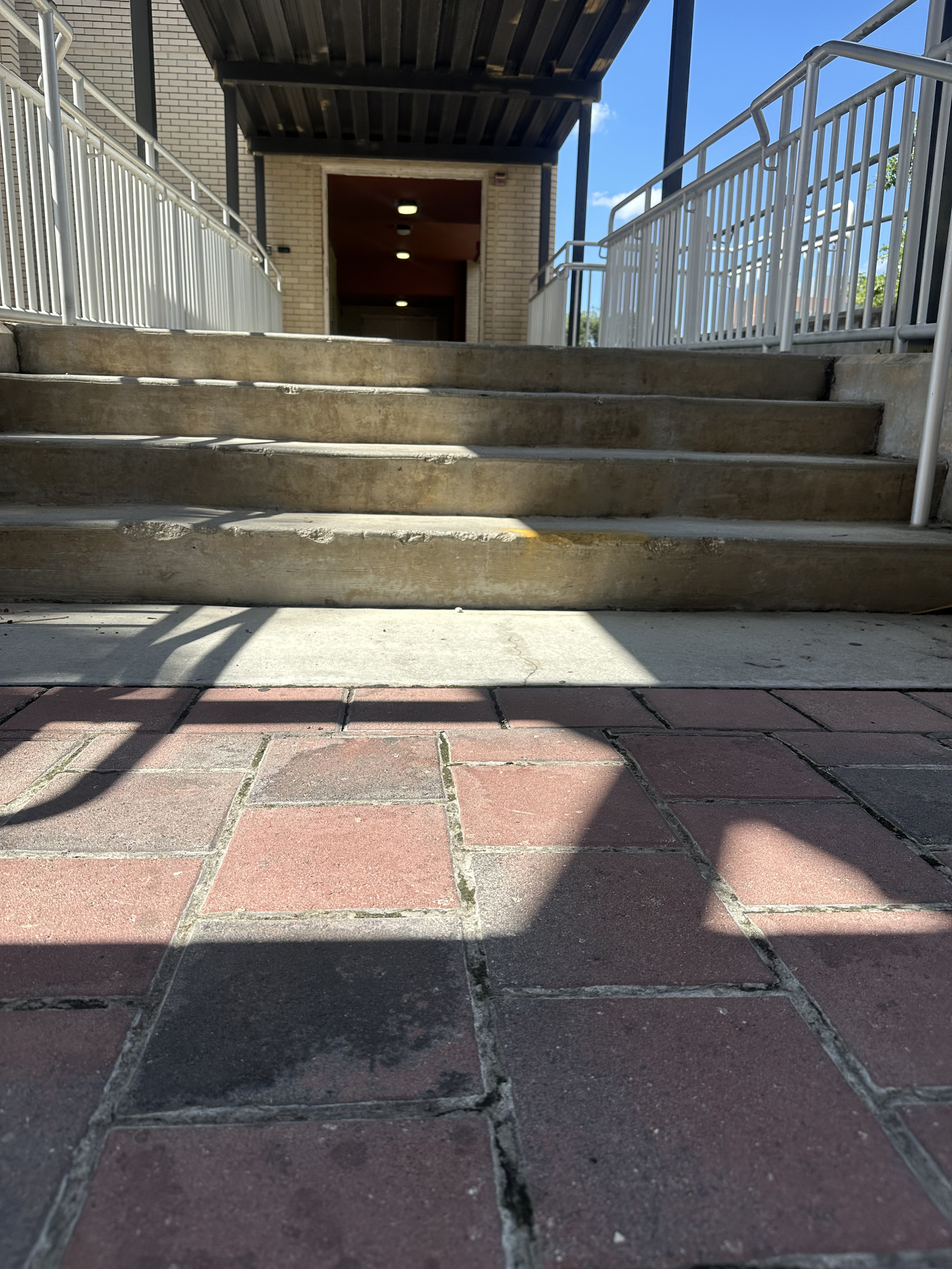stairs: (3, 316, 952, 615)
